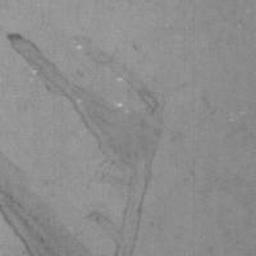Water spot: (0, 27, 170, 256)
